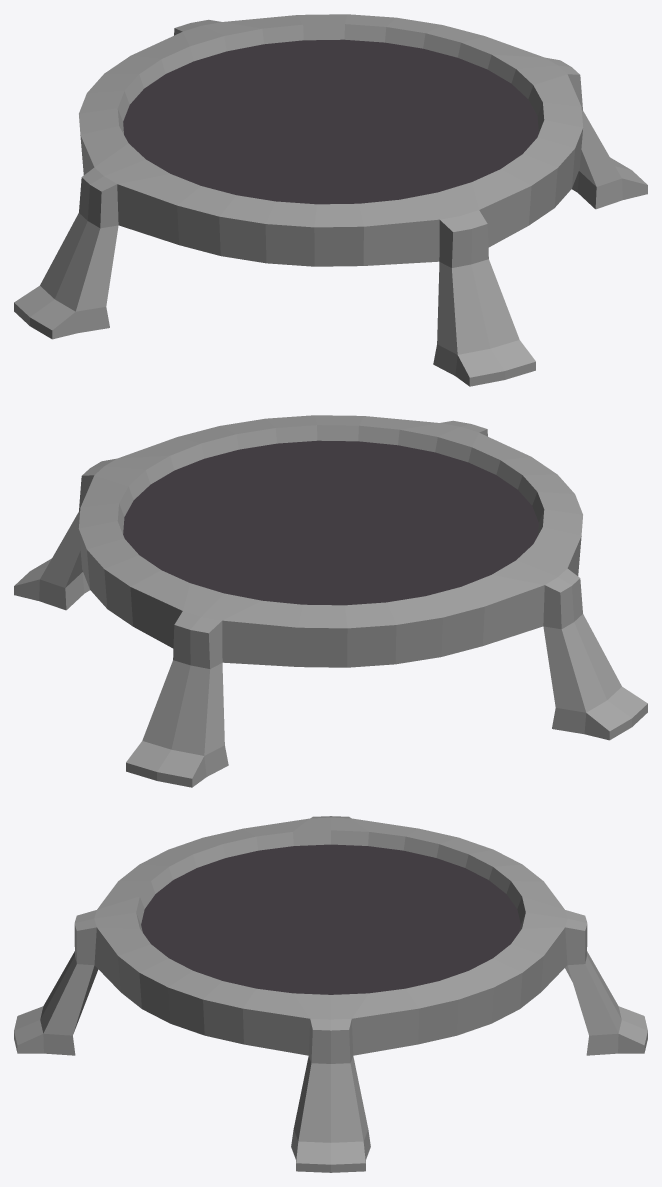
Rendered from trampoline1.fbx.
The picture shows the model from 3 angles, top to bottom: view 1: azimuth 30°, elevation 25°; view 2: azimuth 150°, elevation 25°; view 3: azimuth 270°, elevation 25°; orthographic projection. The views are drawn at different scales.
Visible parts, largest first — view 1: trampoline; view 2: trampoline; view 3: trampoline.
Part boxes in pixels (box(x1,y1,x2,y2)): trampoline: box(14, 14, 647, 386); trampoline: box(14, 415, 647, 787); trampoline: box(14, 816, 647, 1172).
Size of the model in its own units: 740 by 163 by 740.
